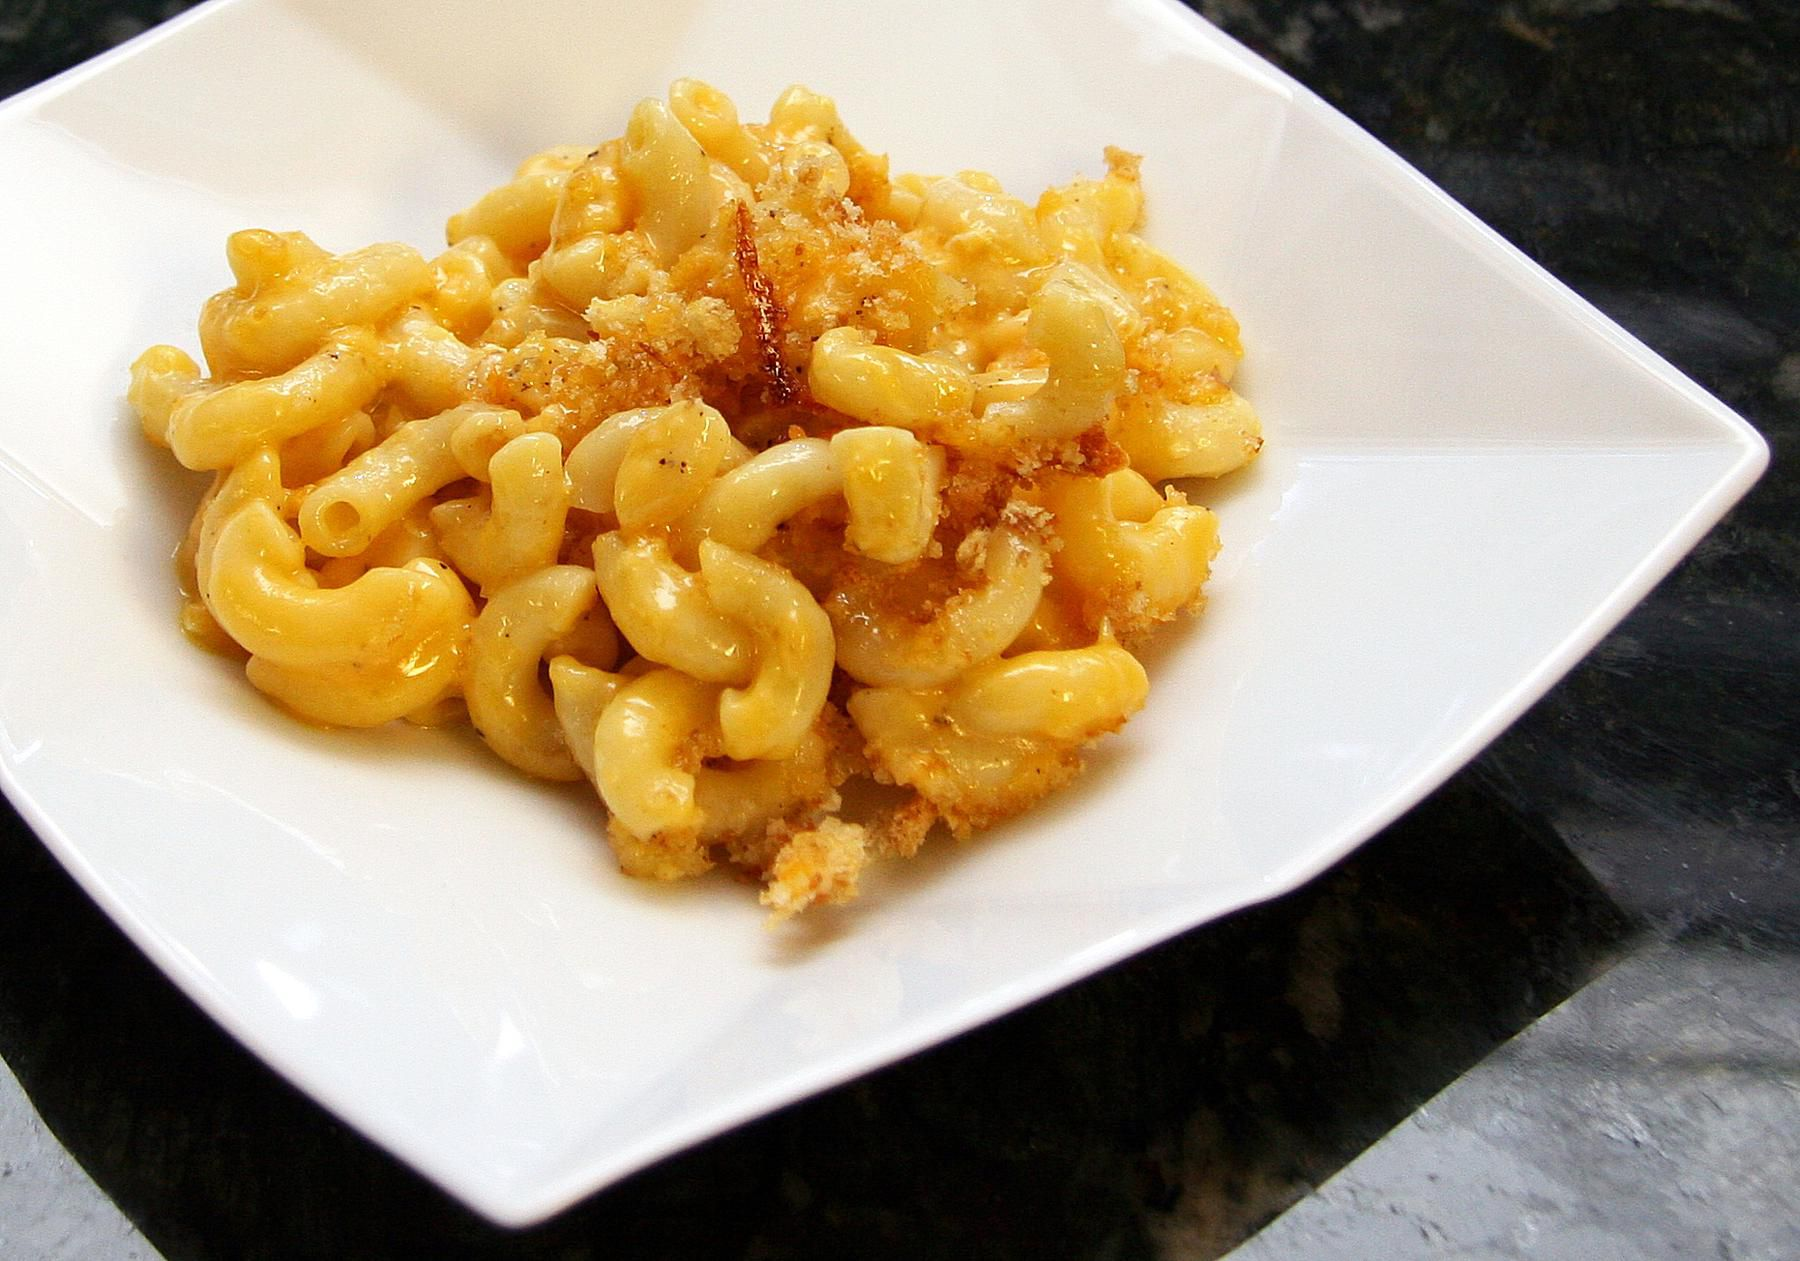macncheese: (103, 41, 1264, 916)
